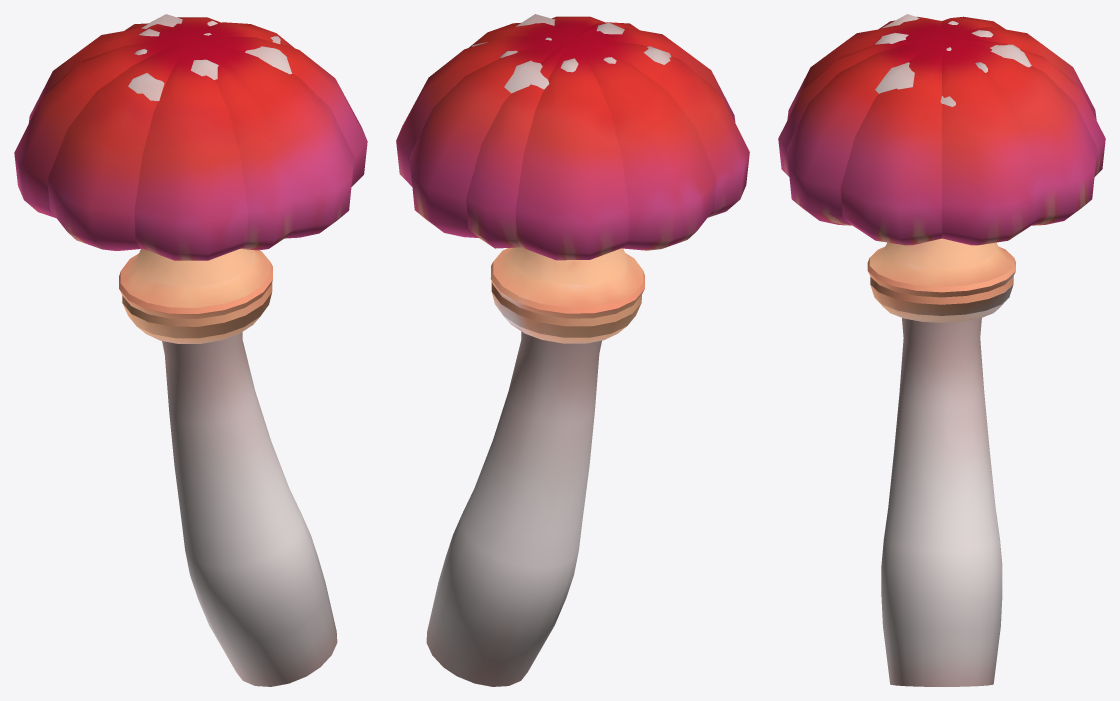
File: Long_mushroom_3.fbx
The picture shows the model from 3 angles, left to right: view 1: azimuth 30°, elevation 25°; view 2: azimuth 150°, elevation 25°; view 3: azimuth 270°, elevation 25°; orthographic projection. The views are drawn at different scales.
Parts seen in each view (by area): view 1: Object009, Object004, Cylinder008; view 2: Object009, Object004, Cylinder008; view 3: Object009, Object004, Cylinder008.
Boxes of the visible parts, bbox=[...] form: Object009: bbox=[14, 17, 367, 260]; Object004: bbox=[119, 249, 337, 686]; Cylinder008: bbox=[128, 14, 292, 100]; Object009: bbox=[396, 16, 749, 260]; Object004: bbox=[426, 247, 644, 686]; Cylinder008: bbox=[472, 14, 671, 93]; Object009: bbox=[778, 16, 1105, 245]; Object004: bbox=[867, 238, 1015, 686]; Cylinder008: bbox=[875, 14, 1031, 106].
Bounding box in the file's own units: 3.08 × 6.48 × 3.1.
